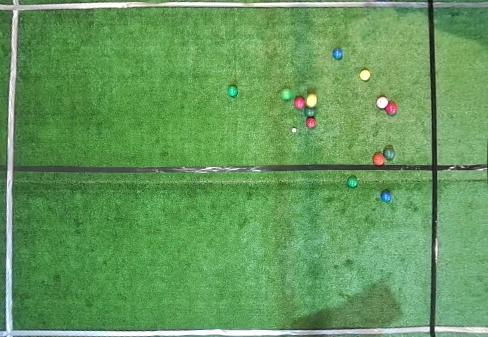blue: (380, 189, 391, 202), (333, 48, 343, 60)
green: (383, 147, 395, 160), (280, 88, 293, 100), (347, 176, 358, 188), (228, 85, 238, 97), (304, 108, 316, 117)
red: (385, 102, 397, 116), (294, 96, 306, 110), (372, 153, 384, 165), (376, 97, 388, 108), (306, 118, 316, 128)
vline: (427, 0, 487, 336), (0, 0, 21, 336)
white: (292, 128, 296, 133)
yellow: (307, 94, 318, 108), (360, 70, 370, 81)
